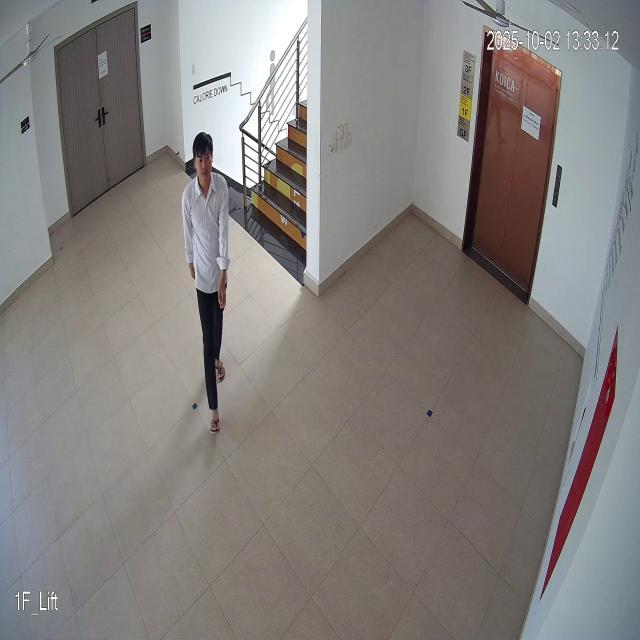face: (191, 128, 217, 186)
